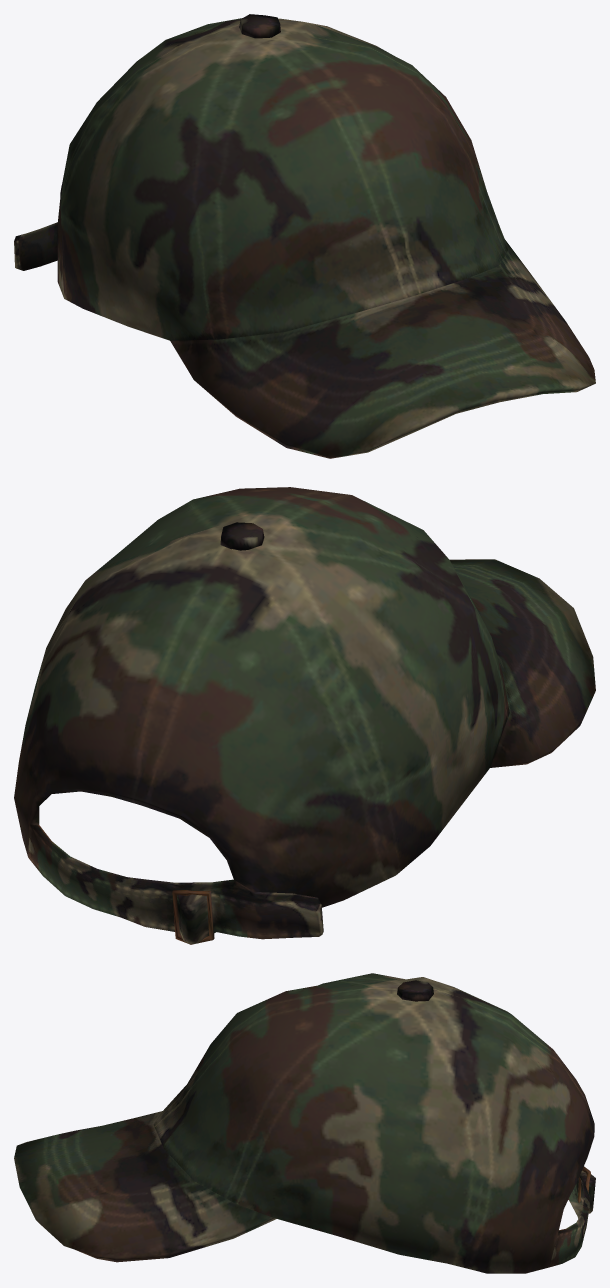
File: cap.obj
The picture shows the model from 3 angles, top to bottom: view 1: azimuth 30°, elevation 25°; view 2: azimuth 150°, elevation 25°; view 3: azimuth 270°, elevation 25°; orthographic projection. The views are drawn at different scales.
Visible parts, largest first — view 1: polySurface1.002_polySurface1Shape.004; view 2: polySurface1.002_polySurface1Shape.004; view 3: polySurface1.002_polySurface1Shape.004.
Boxes of the visible parts, box(x1,y1,x2,y2) form: polySurface1.002_polySurface1Shape.004: box(14, 14, 595, 458); polySurface1.002_polySurface1Shape.004: box(14, 487, 595, 944); polySurface1.002_polySurface1Shape.004: box(14, 973, 595, 1273).
Size of the model in its own units: 0.6728 by 0.5407 by 1.14.
Materials: 1 (1 with a texture image).
